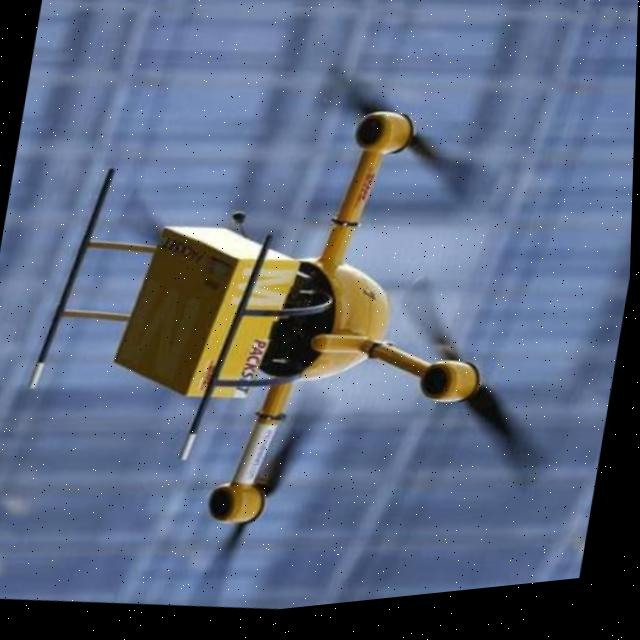drones: (0, 14, 607, 640)
